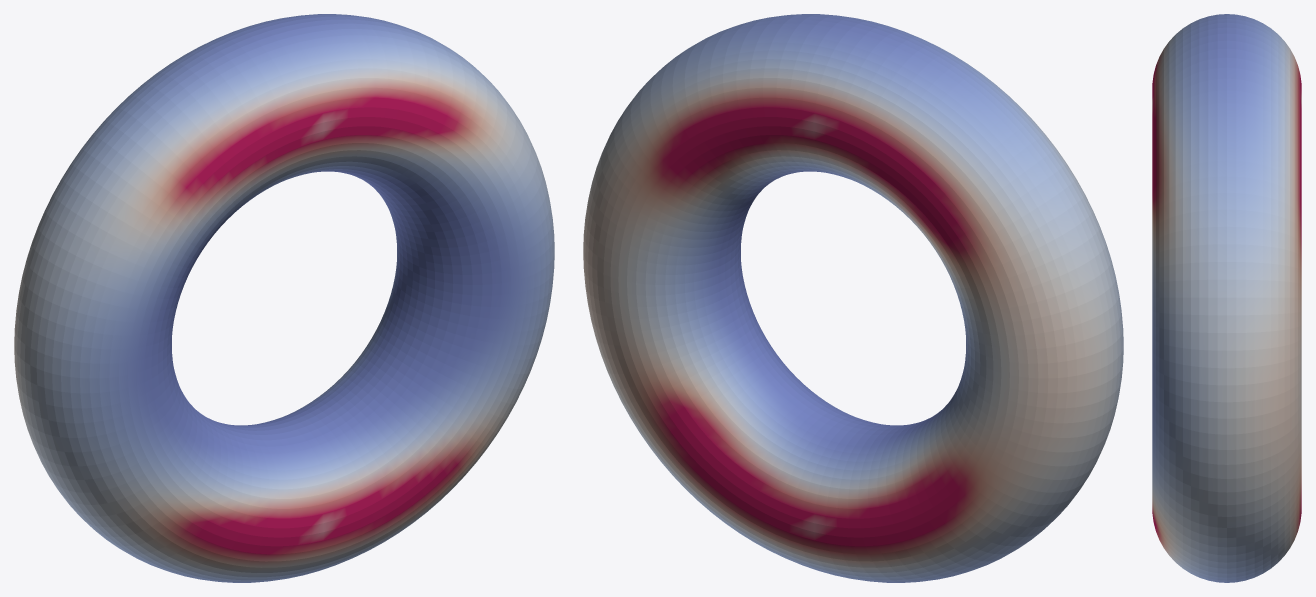
The picture shows the model from 3 angles, left to right: view 1: azimuth 30°, elevation 25°; view 2: azimuth 150°, elevation 25°; view 3: azimuth 270°, elevation 25°; orthographic projection. The views are drawn at different scales.
Visible parts, largest first — view 1: world; view 2: world; view 3: world.
Part boxes in pixels (bbox=[...]): world: bbox=[14, 14, 554, 582]; world: bbox=[583, 14, 1123, 582]; world: bbox=[1152, 14, 1301, 582].
Bounding box in the file's own units: 20.8 × 20.8 × 5.46.
